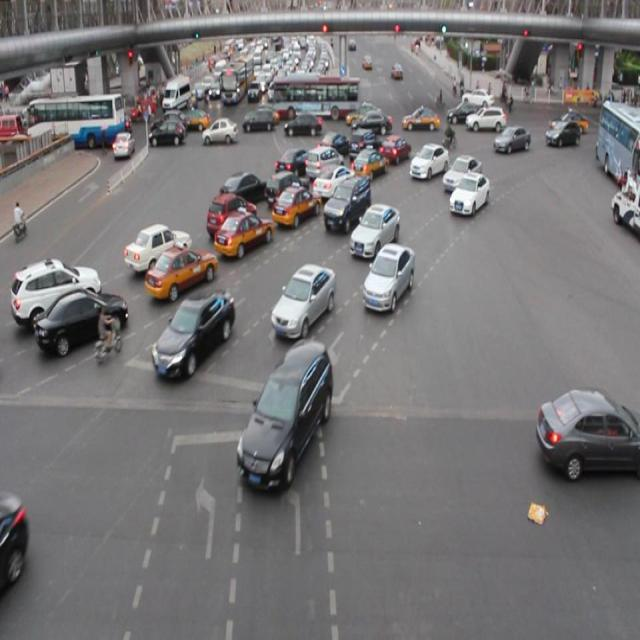car: (237, 340, 331, 490), (535, 386, 640, 473), (152, 286, 235, 381), (11, 256, 101, 324), (35, 286, 126, 353), (269, 264, 335, 340), (146, 241, 216, 296), (362, 241, 413, 311), (124, 224, 190, 271), (215, 208, 272, 258), (349, 204, 400, 259), (322, 175, 372, 229), (206, 194, 257, 237), (273, 183, 319, 225), (448, 170, 488, 215), (220, 172, 268, 206), (409, 142, 448, 183), (441, 152, 481, 190), (312, 165, 353, 201), (266, 171, 308, 205), (349, 145, 387, 180), (493, 123, 529, 156), (274, 147, 310, 178), (348, 128, 381, 160), (316, 130, 350, 159), (378, 136, 410, 164)
truck: (304, 145, 342, 182)
